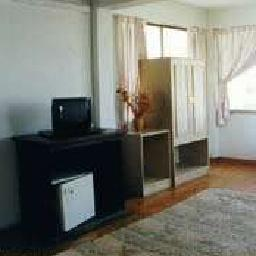Armario: (165, 58, 212, 177)
Ventana: (215, 30, 255, 112)
